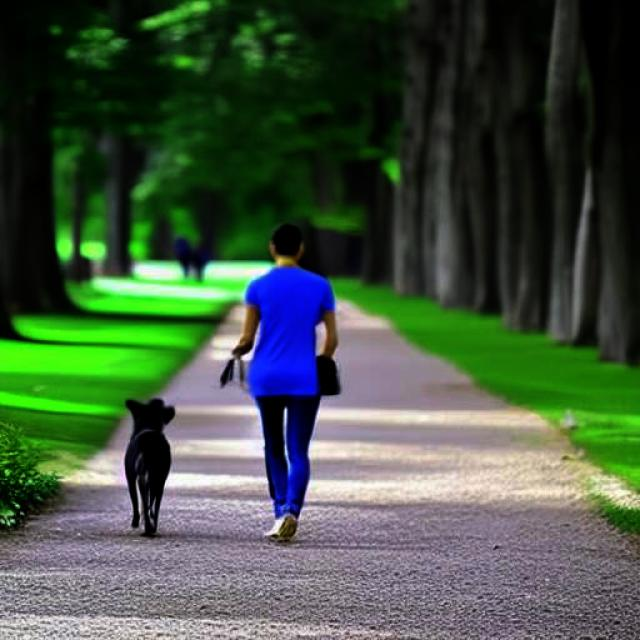Unleashed_Dog: (124, 350, 315, 536)
